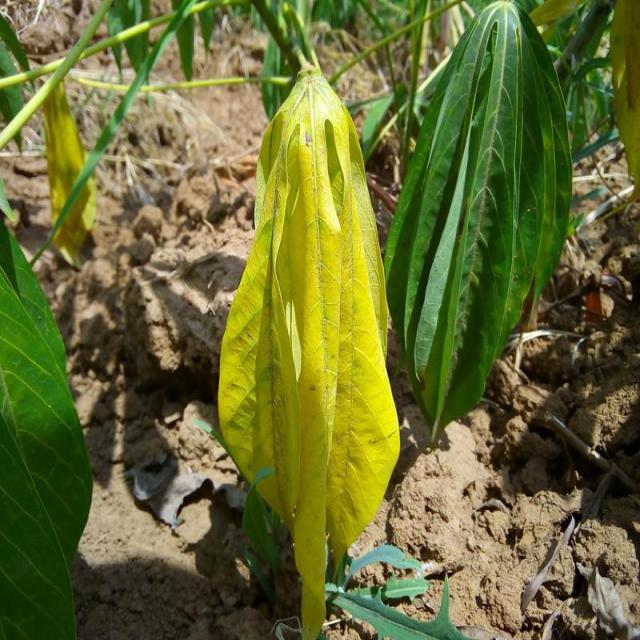cassava leaf: (216, 63, 401, 636), (382, 0, 574, 447), (0, 214, 94, 638)
